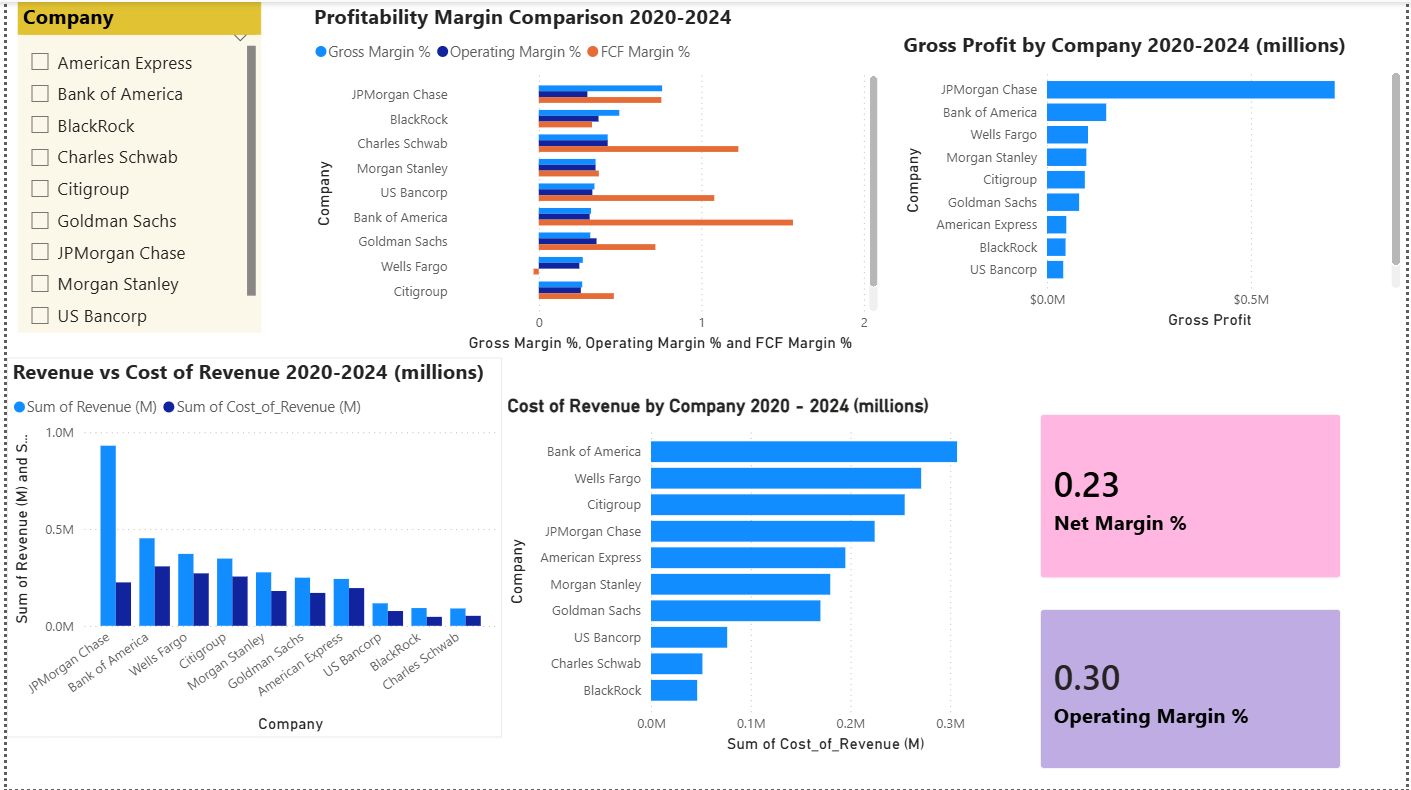

Layout of this report page (visuals, bound fields, positions):
{"tool":"powerbi","page":{"name":"Profitability & Margins","canvas":[1280,720],"ordinal":1},"visuals":[{"type":"clusteredBarChart","title":"Profitability Margin Comparison 2020-2024","fields":{"Y":["Financials.Gross Margin %","Financials.Operating Margin %","Financials.FCF Margin %"],"Category":["Financials.Company"]},"box":[275.7,0,525.7,324.3],"z":0},{"type":"barChart","title":"Gross Profit by Company 2020-2024 (millions)","fields":{"Category":["Financials.Company"],"Y":["Financials.Gross Profit"]},"box":[815.7,25.7,464.3,277.1],"z":1000},{"type":"clusteredColumnChart","title":"Revenue vs Cost of Revenue 2020-2024 (millions)","fields":{"Category":["Financials.Company"],"Y":["Sum(Financials.Revenue (M))","Sum(Financials.Cost_of_Revenue (M))"]},"box":[0,325.7,452.9,347.1],"z":2000},{"type":"barChart","title":"Cost of Revenue by Company 2020 - 2024 (millions)","fields":{"Category":["Financials.Company"],"Y":["Sum(Financials.Cost_of_Revenue (M))"]},"box":[452.9,360,474.3,331.4],"z":3000},{"type":"cardVisual","fields":{"Data":["Financials.Net Margin %"]},"box":[927.1,360,310,185.7],"z":4000},{"type":"slicer","title":"Company","fields":{"Values":["Financials.Company"]},"box":[10,0,222.9,302.9],"z":5000},{"type":"cardVisual","fields":{"Data":["Financials.Operating Margin %"]},"box":[927.1,538.6,310,181.4],"z":6000}]}

Visuals, with their boxes in screenshot pixels (x1, y1, x2, y2), scaled from the page's 1280x720 canvas onto the 1411x790 screenshot:
"Profitability Margin Comparison 2020-2024" clusteredBarChart: {"left": 304, "top": 0, "right": 883, "bottom": 356}
"Gross Profit by Company 2020-2024 (millions)" barChart: {"left": 899, "top": 28, "right": 1410, "bottom": 332}
"Revenue vs Cost of Revenue 2020-2024 (millions)" clusteredColumnChart: {"left": 0, "top": 357, "right": 499, "bottom": 738}
"Cost of Revenue by Company 2020 - 2024 (millions)" barChart: {"left": 499, "top": 395, "right": 1022, "bottom": 759}
cardVisual - Financials.Net Margin %: {"left": 1022, "top": 395, "right": 1364, "bottom": 599}
"Company" slicer: {"left": 11, "top": 0, "right": 257, "bottom": 332}
cardVisual - Financials.Operating Margin %: {"left": 1022, "top": 591, "right": 1364, "bottom": 789}
